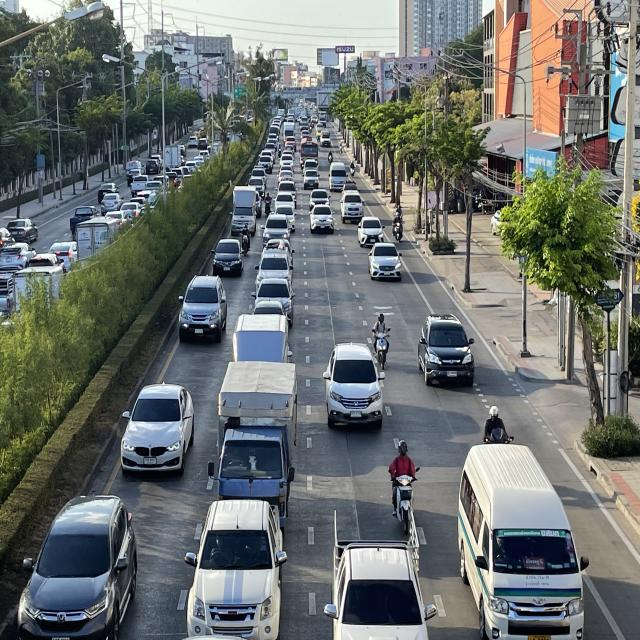bike: (389, 437, 420, 530), (478, 402, 515, 451), (372, 312, 391, 368), (392, 210, 405, 244), (241, 222, 251, 256)
car: (456, 440, 590, 640), (14, 494, 139, 640), (185, 495, 286, 640), (177, 272, 228, 344), (252, 276, 296, 328), (254, 247, 294, 291), (367, 242, 403, 284), (211, 239, 244, 277), (260, 212, 292, 247), (357, 215, 386, 248), (308, 204, 335, 235), (339, 193, 365, 223), (208, 358, 211, 364)
truck: (321, 508, 437, 640), (208, 359, 294, 531), (232, 315, 291, 365), (230, 184, 258, 237)
